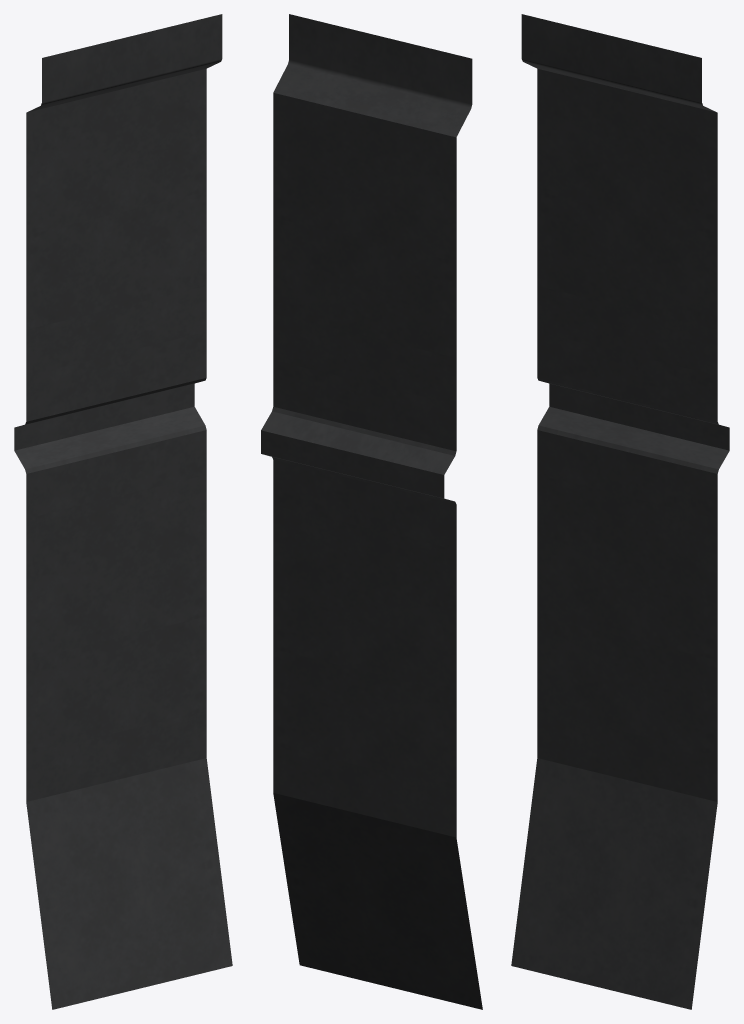
The model's file is M_Wall_Straight_2x10_v2.fbx.
3 renders of one model, left to right at view 1: azimuth 30°, elevation 25°; view 2: azimuth 150°, elevation 25°; view 3: azimuth 330°, elevation 25°, orthographic.
Visible parts, largest first — view 1: Wall_Straight_2x10_v2; view 2: Wall_Straight_2x10_v2; view 3: Wall_Straight_2x10_v2.
Part boxes in pixels (<box>): Wall_Straight_2x10_v2: <box>14,14,232,1009</box>; Wall_Straight_2x10_v2: <box>261,14,482,1009</box>; Wall_Straight_2x10_v2: <box>511,14,729,1009</box>.
Bounding box in the file's own units: 200 × 1000 × 73.02.
